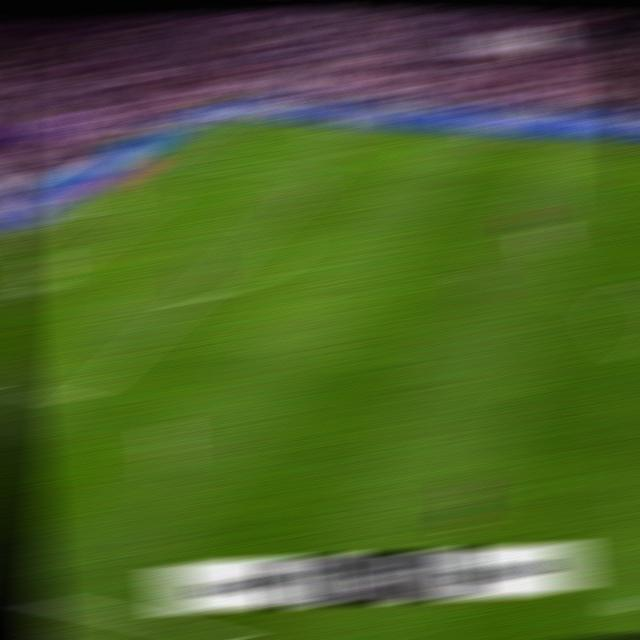bigarea_bottom_inner: (61, 388, 95, 411)
bigarea_top_inner: (306, 168, 336, 180)
bigarea_top_outter: (152, 153, 181, 163)
bottom_arc_area_intersection: (173, 294, 202, 306)
corner: (211, 116, 241, 125)
smallarea_bottom_inner: (12, 286, 43, 301)
smallarea_top_inner: (143, 200, 170, 207)
top_arc_area_intersection: (253, 217, 284, 231)
